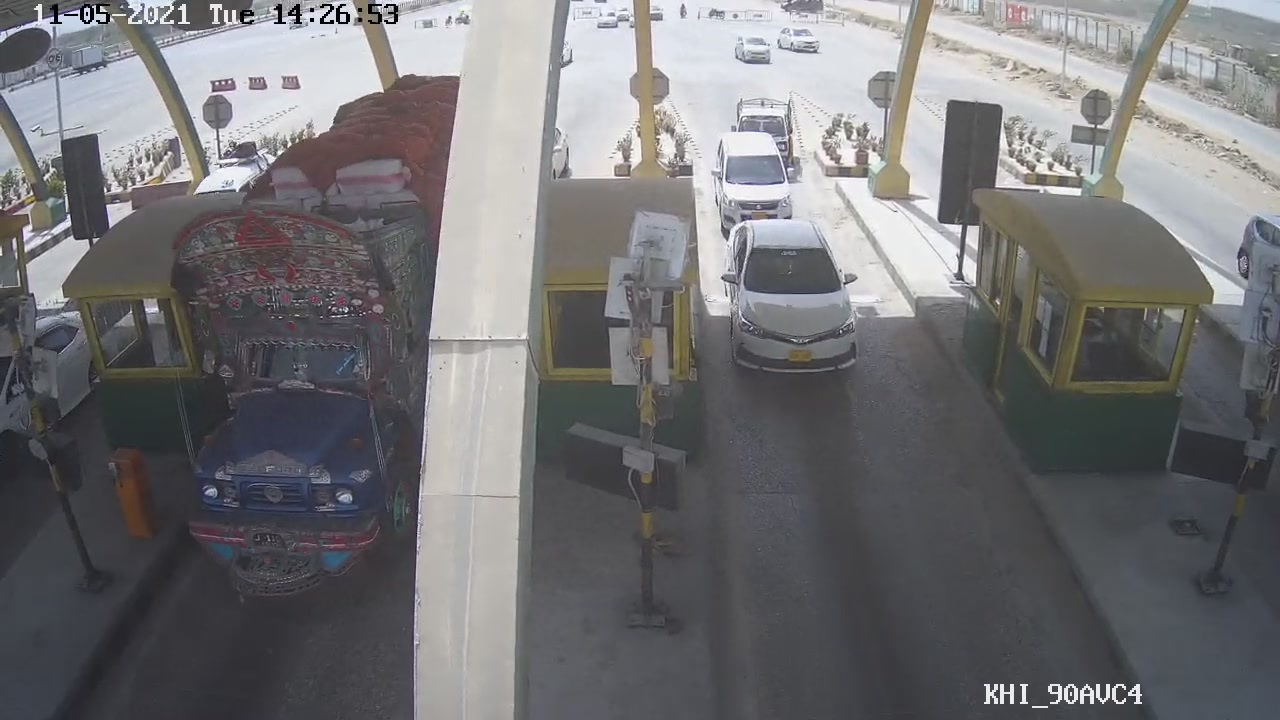F1: (710, 216, 864, 380)
